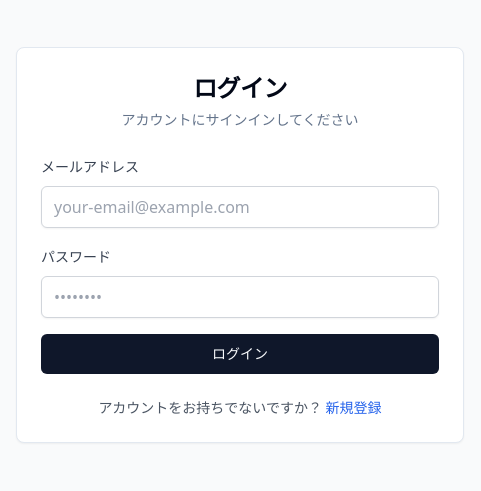
it: LoginPage › ログインエラーの表示
Type "test@example.com" into the field labelled "メールアドレス" at (240, 207), box [41,186,439,228]
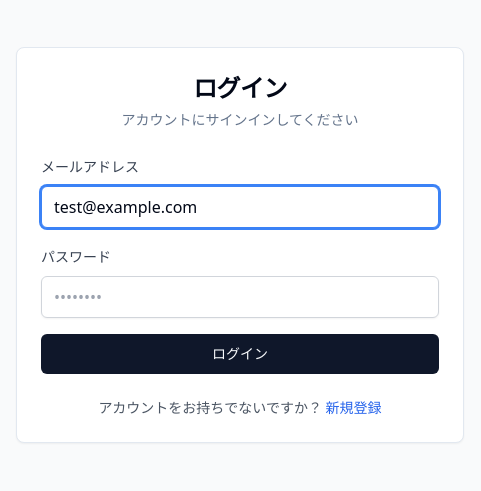
Type "wrongpassword" into the password field labelled "パスワード" at (240, 297), box [41,276,439,318]
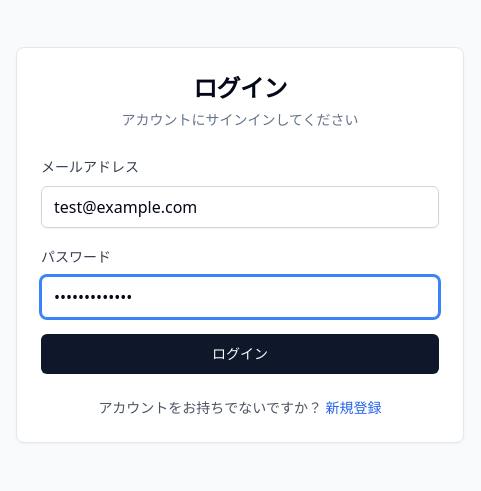
Click the button "ログイン" at (240, 354), box [41,334,439,374]
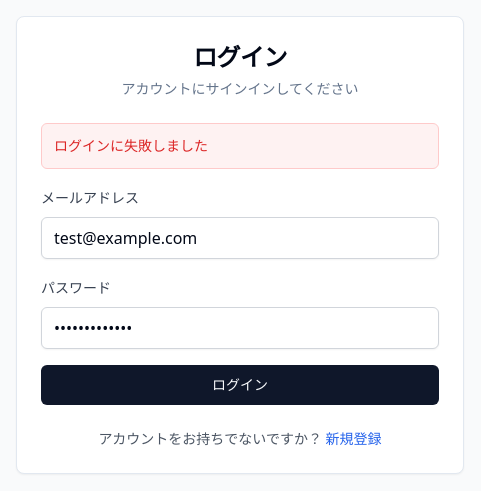
Expected: the text "ログインに失敗しました" is shown, [41,123,439,169]
